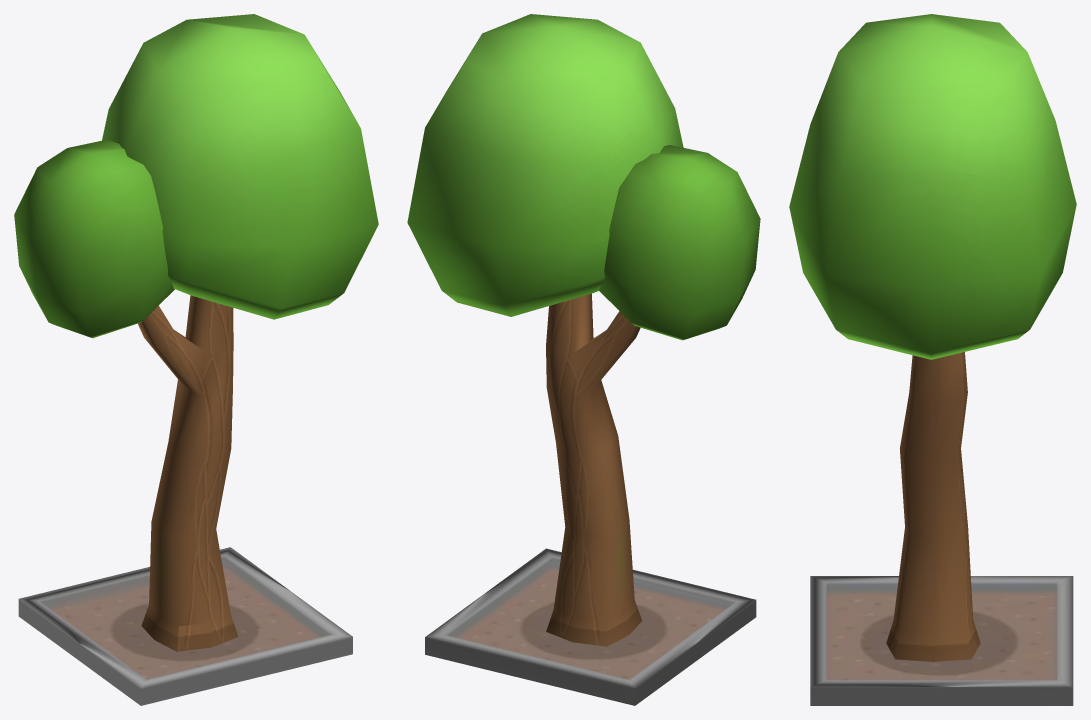
Rendered from city_tree.glb.
3 views of the same model, side by side, from view 1: azimuth 30°, elevation 25°; view 2: azimuth 150°, elevation 25°; view 3: azimuth 270°, elevation 25° (orthographic). The views are drawn at different scales.
Parts seen in each view (by area): view 1: city:polySurface327; view 2: city:polySurface327; view 3: city:polySurface327.
Boxes of the visible parts, <box> form: city:polySurface327: <box>14,14,378,705</box>; city:polySurface327: <box>407,14,760,705</box>; city:polySurface327: <box>789,14,1076,705</box>.
Bounding box in the file's own units: 2.65 × 4.79 × 1.93.
1 material, 1 textured.
